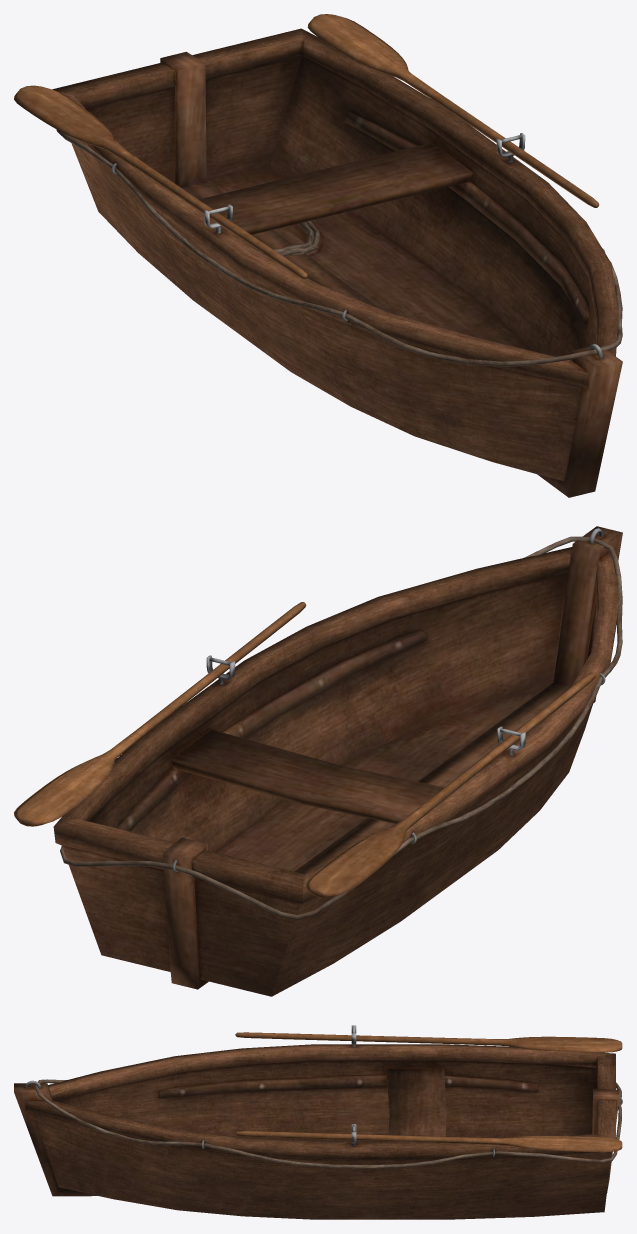
The model's file is boat.glb.
3 views of the same model, one above another, from view 1: azimuth 30°, elevation 25°; view 2: azimuth 150°, elevation 25°; view 3: azimuth 270°, elevation 25° (orthographic). The views are drawn at different scales.
Visible parts, largest first — view 1: BoatLow; view 2: BoatLow; view 3: BoatLow.
Boxes of the visible parts, x1=… form: BoatLow: x1=14, y1=14, x2=622, y2=497; BoatLow: x1=14, y1=526, x2=622, y2=996; BoatLow: x1=14, y1=1025, x2=622, y2=1219.
Size of the model in its own units: 0.8895 by 0.4091 by 2.
1 material, 1 textured.
